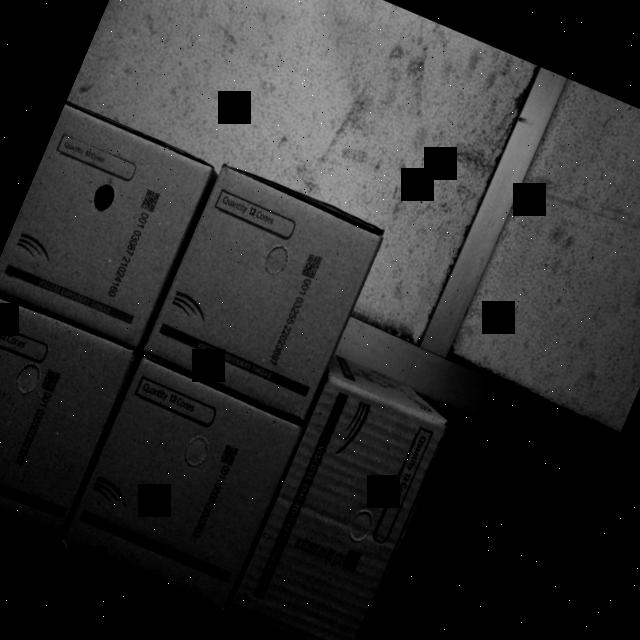box: (142, 163, 387, 422), (62, 362, 299, 616), (227, 371, 448, 640), (0, 97, 219, 343), (0, 291, 135, 533)
